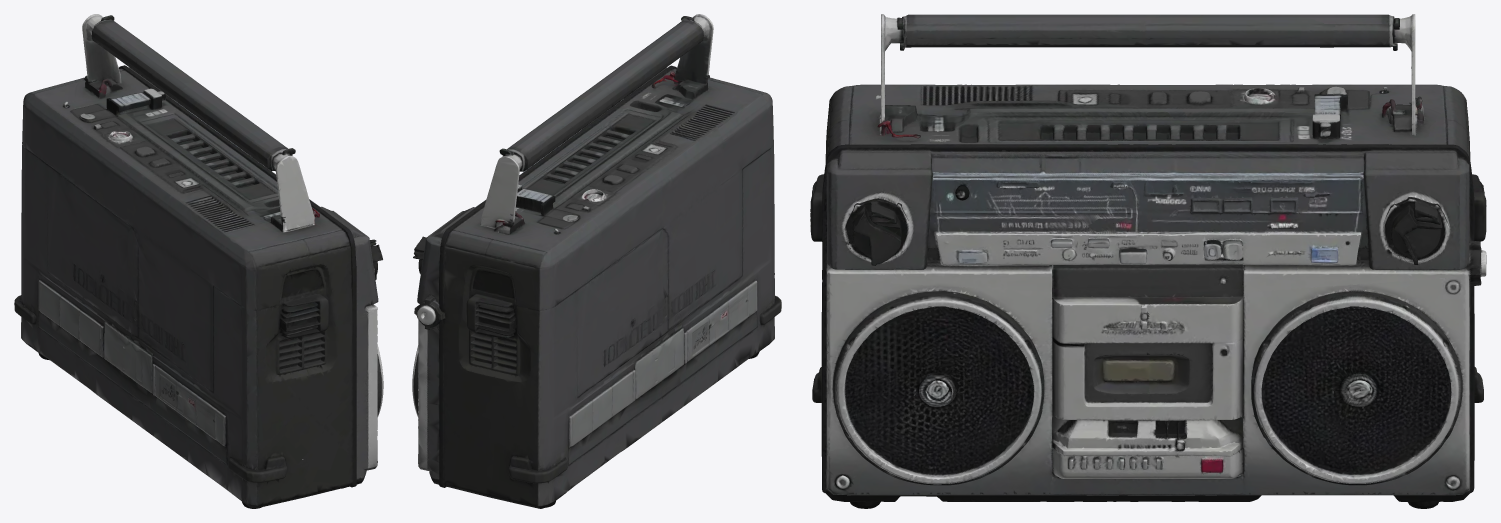
The model's file is magic3d_pbr_model_8699477b-63a4-41c1-a4a5-aec6701a7f8e-optimized.glb.
The picture shows the model from 3 angles, left to right: view 1: azimuth 30°, elevation 25°; view 2: azimuth 150°, elevation 25°; view 3: azimuth 270°, elevation 25°; orthographic projection. The views are drawn at different scales.
Parts seen in each view (by area): view 1: tripo_node_8699477b-63a4-41c1-a4a5-aec6701a7f8e; view 2: tripo_node_8699477b-63a4-41c1-a4a5-aec6701a7f8e; view 3: tripo_node_8699477b-63a4-41c1-a4a5-aec6701a7f8e.
Boxes of the visible parts, x1,y1,x2,y2 form: tripo_node_8699477b-63a4-41c1-a4a5-aec6701a7f8e: [14, 14, 383, 508]; tripo_node_8699477b-63a4-41c1-a4a5-aec6701a7f8e: [412, 14, 781, 508]; tripo_node_8699477b-63a4-41c1-a4a5-aec6701a7f8e: [810, 14, 1486, 508].
Bounding box in the file's own units: 0.3425 × 0.7488 × 0.9995.
1 material, 1 textured.
